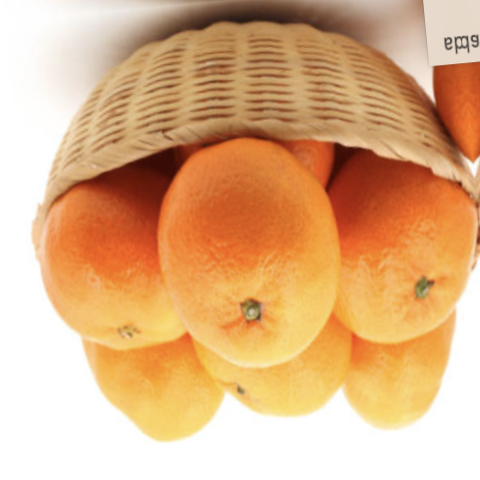orange: (137, 131, 356, 385), (0, 164, 220, 375), (307, 117, 480, 367)
